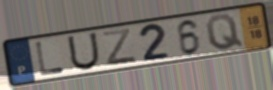2: (137, 22, 173, 64)
6: (175, 19, 203, 56)
L: (34, 41, 67, 78)
Q: (204, 13, 246, 52)
U: (66, 31, 102, 72)
Z: (100, 27, 139, 68)
